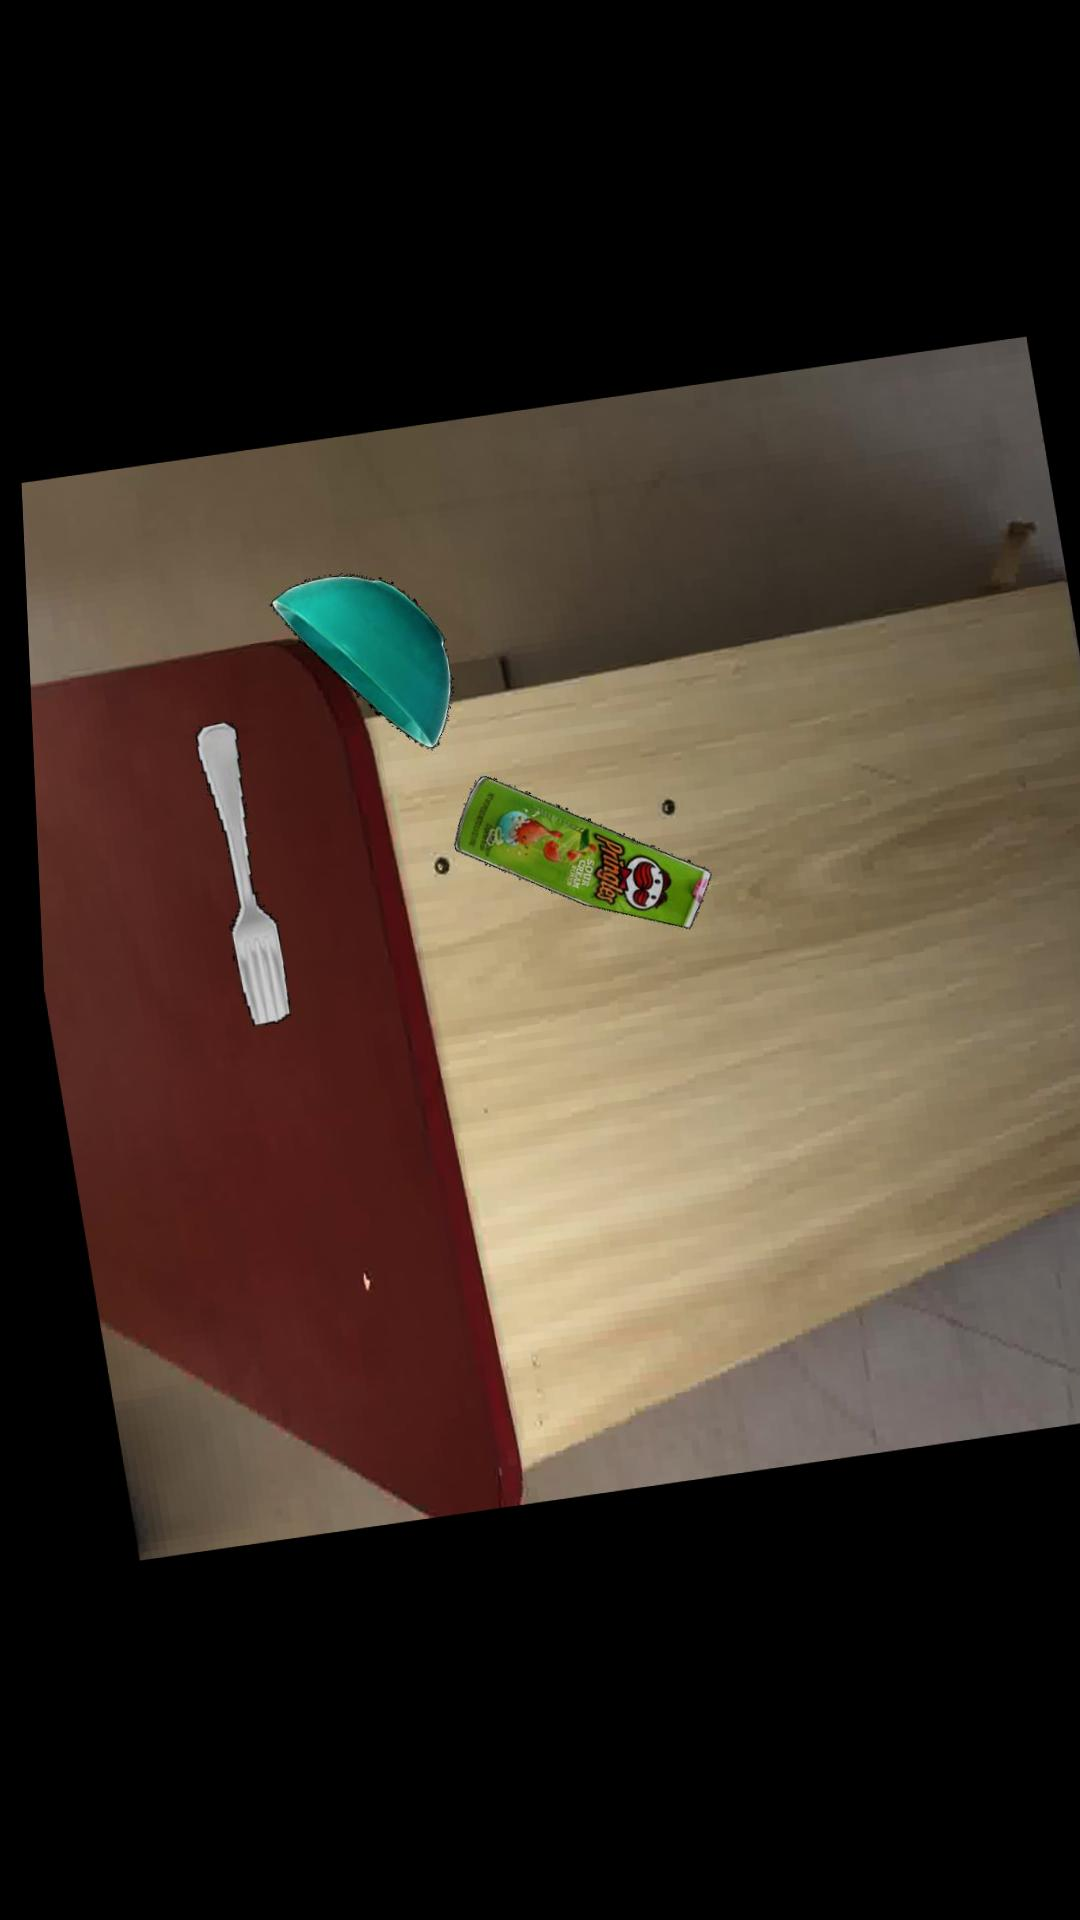bowl: (261, 579, 443, 752)
fork: (186, 724, 278, 1029)
pringles: (443, 779, 700, 934)
